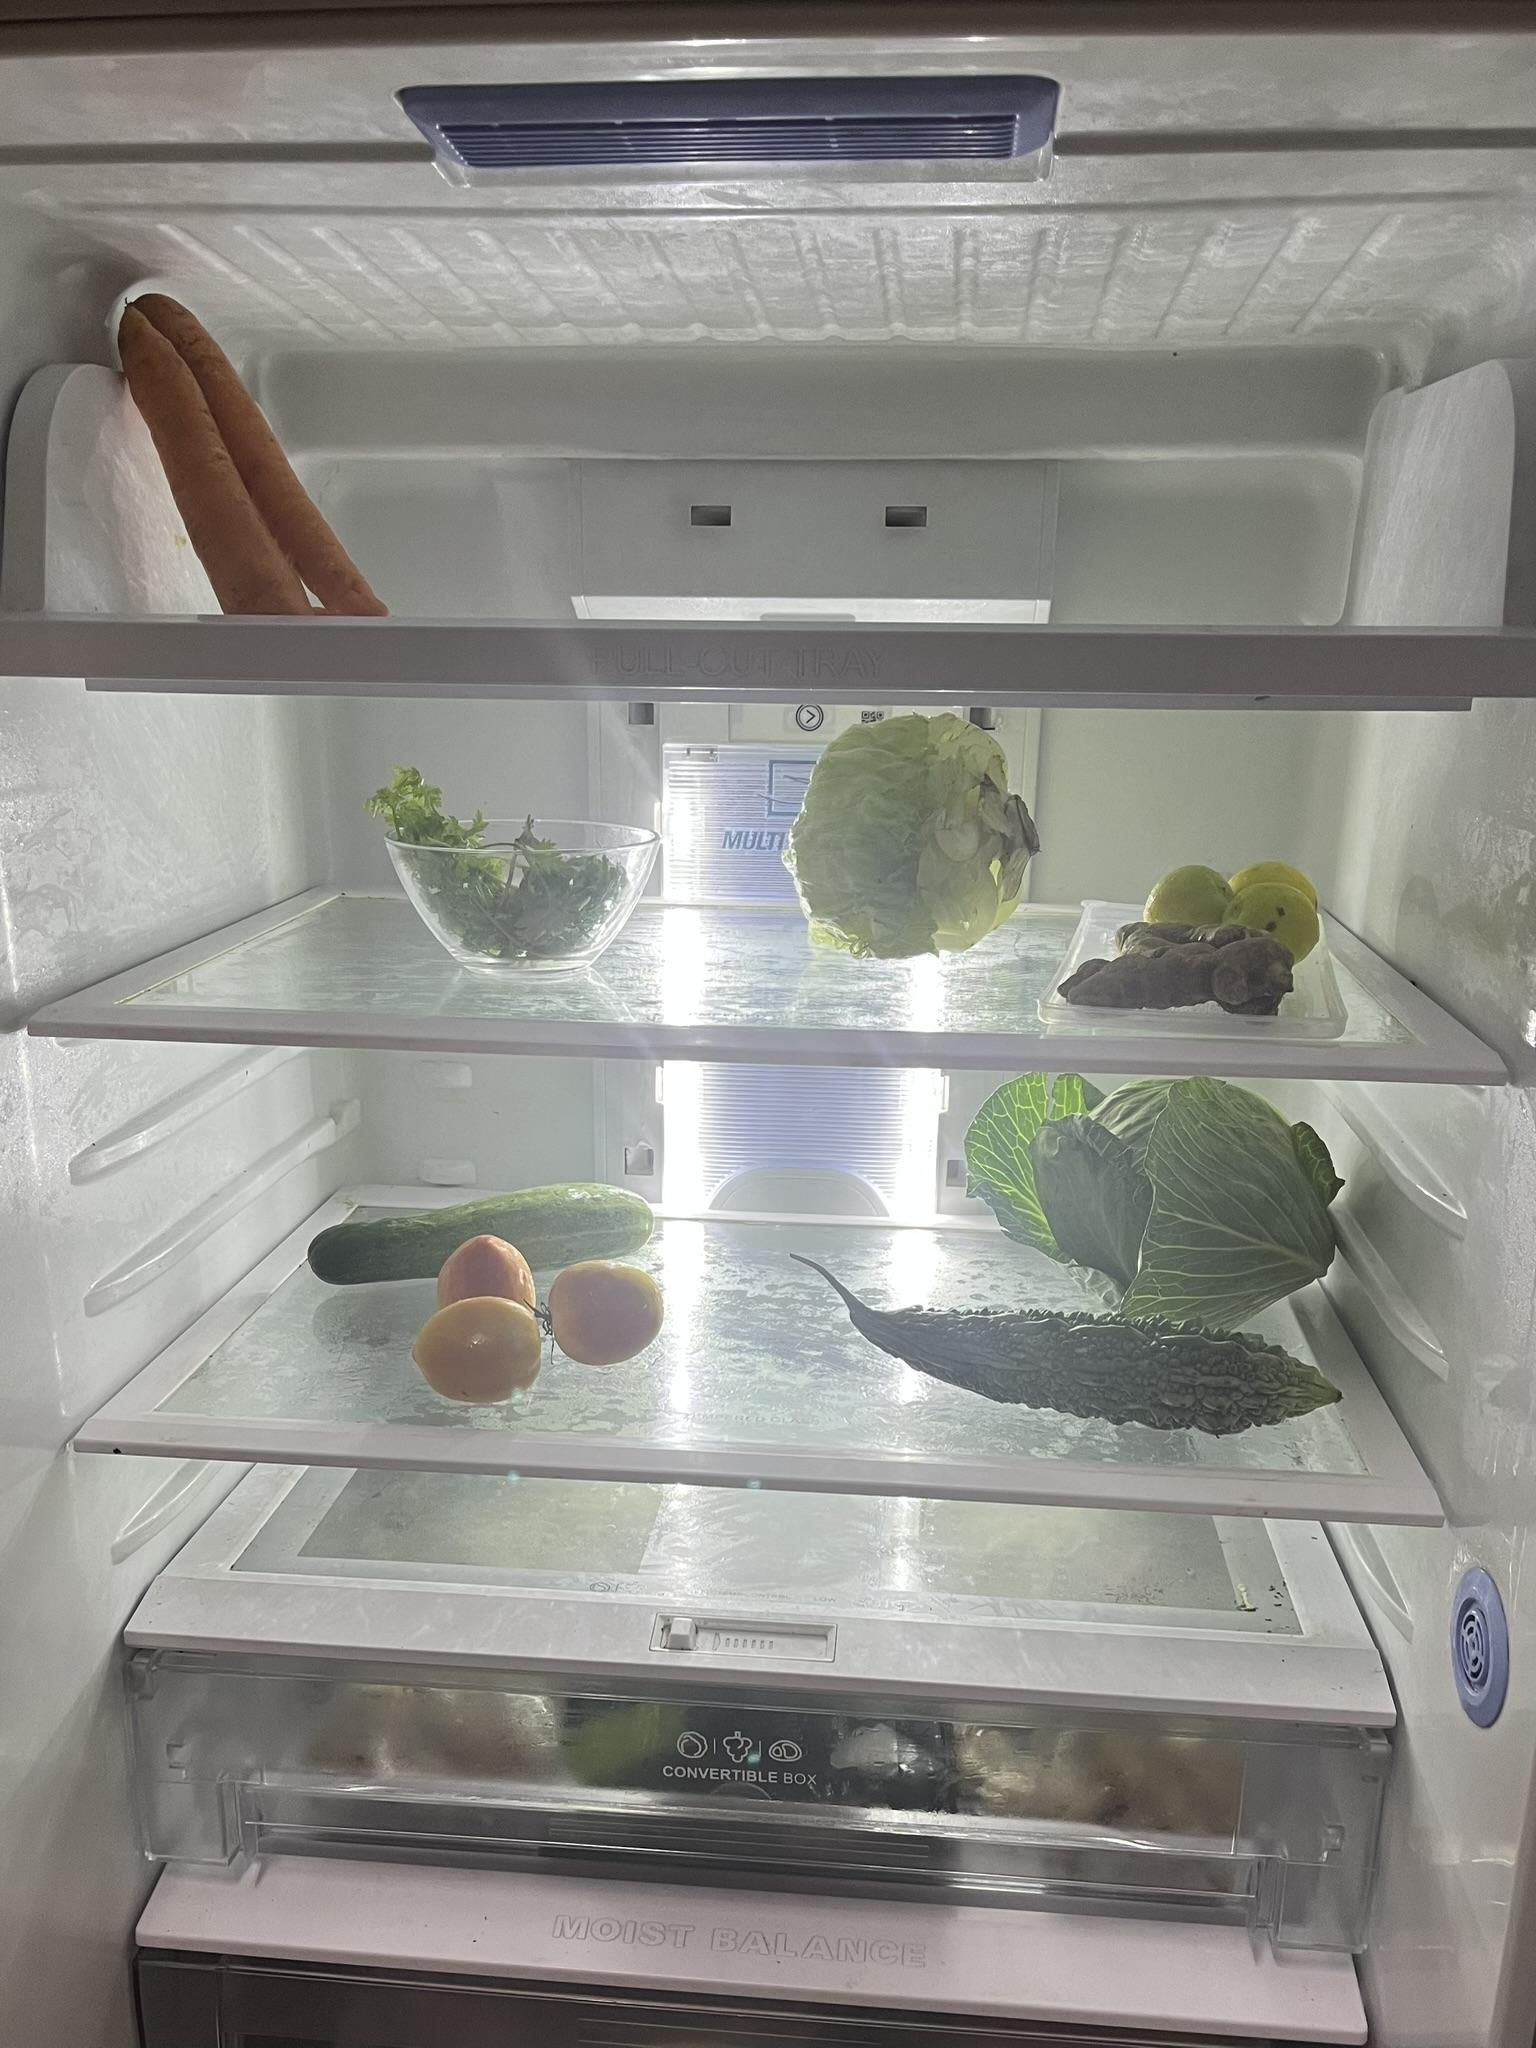bitter gaurd: (817, 1303, 1380, 1433)
cabbage: (963, 1070, 1353, 1297)
carrots: (107, 277, 390, 617)
coriander: (383, 760, 630, 967)
cucumber: (323, 1177, 670, 1297)
ginger: (1047, 923, 1303, 1030)
lemon: (1137, 863, 1313, 947)
lettuce: (780, 710, 1043, 963)
tomato: (413, 1237, 650, 1417)
